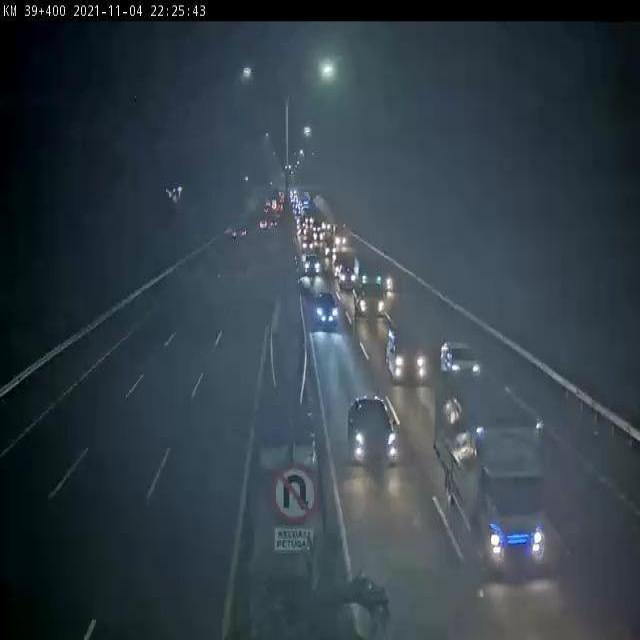car: (348, 396, 399, 476), (386, 336, 431, 388), (439, 337, 482, 380), (314, 291, 340, 337)
truck-m-: (435, 378, 551, 578), (351, 265, 385, 319)
